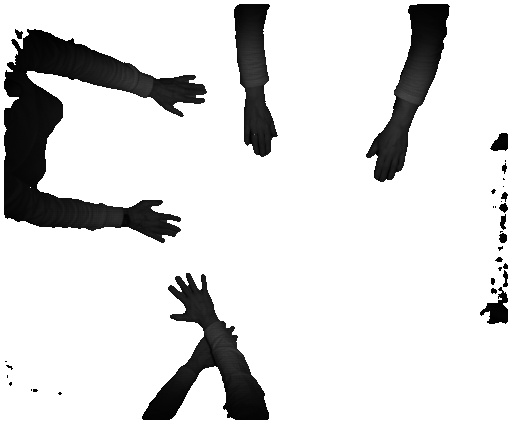hand: (366, 128, 415, 183), (168, 272, 216, 326), (130, 200, 183, 247), (156, 72, 207, 119), (242, 108, 279, 159)
